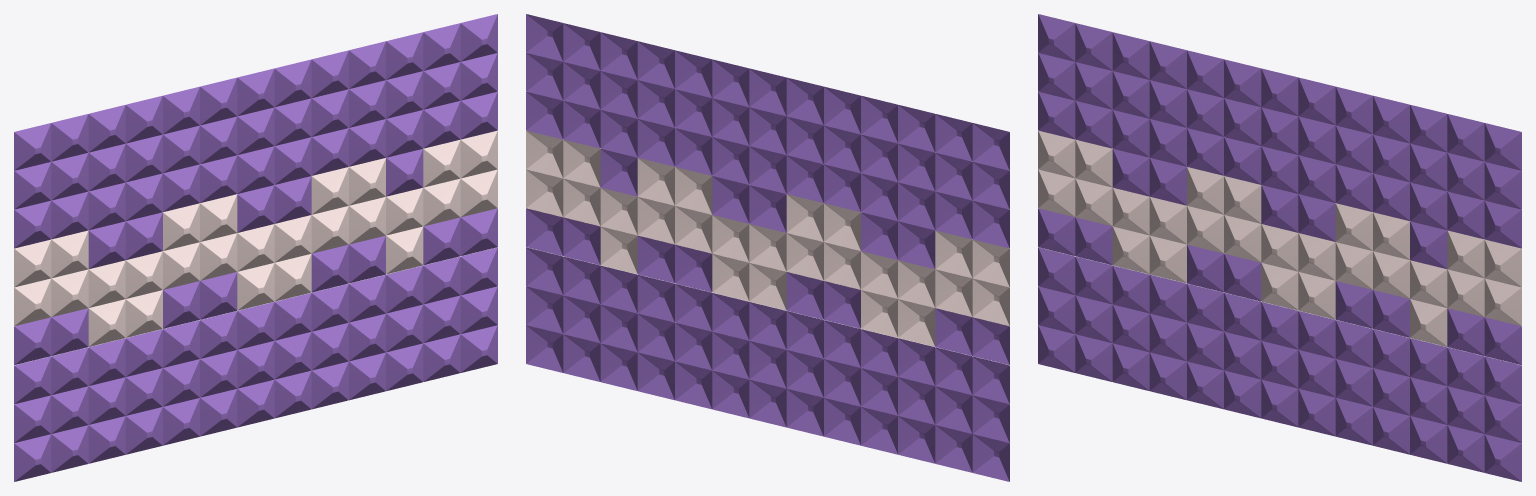
File: Store_13_Wall_Studio_1.glb
3 views of the same model, side by side, from view 1: azimuth 30°, elevation 25°; view 2: azimuth 150°, elevation 25°; view 3: azimuth 330°, elevation 25° (orthographic).
Visible parts, largest first — view 1: Store_13_Wall_Studio_1; view 2: Store_13_Wall_Studio_1; view 3: Store_13_Wall_Studio_1.
Part boxes in pixels (x1,y1,x2,y2): Store_13_Wall_Studio_1: (14, 14, 497, 481); Store_13_Wall_Studio_1: (526, 14, 1009, 481); Store_13_Wall_Studio_1: (1038, 14, 1521, 481).
Bounding box in the file's own units: 6.34 × 4.38 × 0.1244.
1 material, 1 textured.
